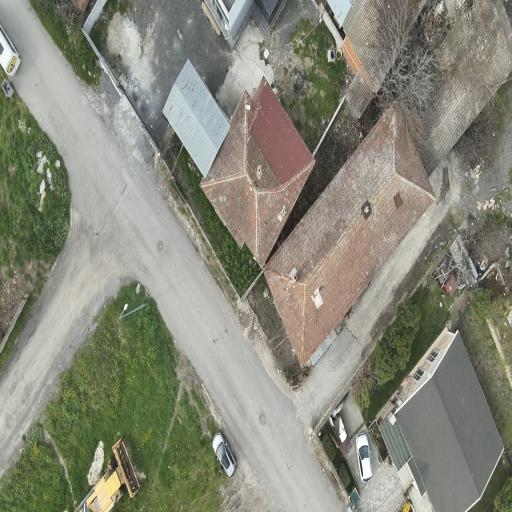car: (0, 26, 20, 77), (213, 432, 236, 476), (356, 433, 372, 482)
harvester: (82, 438, 139, 511)
